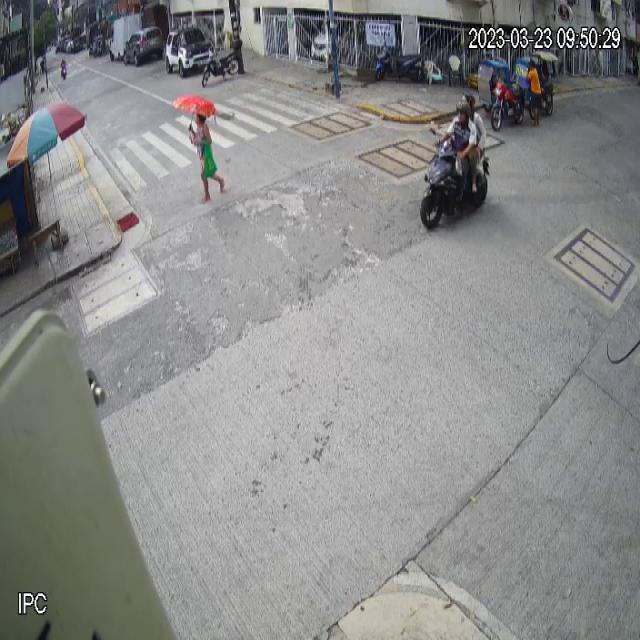Motorcycle: (418, 126, 490, 232)
Tricycle: (478, 55, 527, 132)
